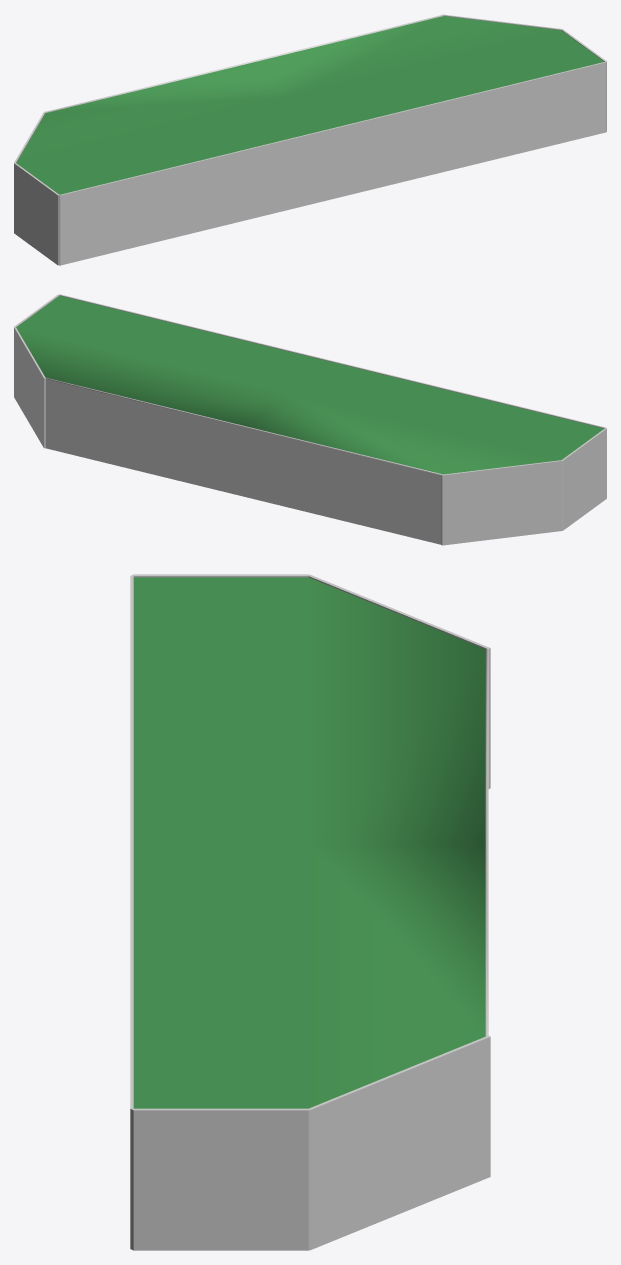
The model's file is quais6.fbx.
3 renders of one model, top to bottom at view 1: azimuth 30°, elevation 25°; view 2: azimuth 150°, elevation 25°; view 3: azimuth 270°, elevation 25°, orthographic. The views are drawn at different scales.
Visible parts, largest first — view 1: quais6; view 2: quais6; view 3: quais6.
Boxes of the visible parts, x1=… form: quais6: x1=14, y1=14, x2=606, y2=265; quais6: x1=14, y1=294, x2=606, y2=545; quais6: x1=130, y1=574, x2=490, y2=1250.
Bounding box in the file's own units: 1176 × 144 × 334.
